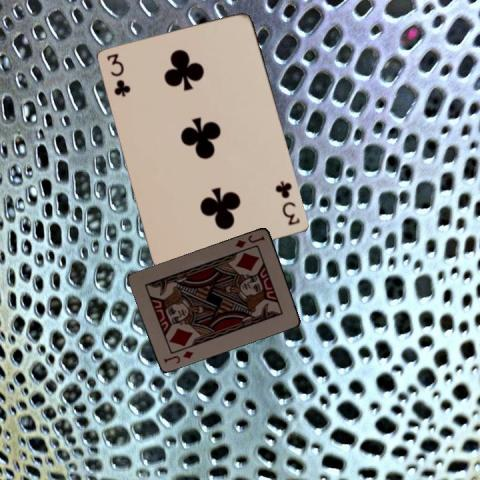3c: (273, 178, 302, 227), (104, 50, 131, 98)
Jd: (232, 231, 267, 249), (161, 347, 195, 365)
